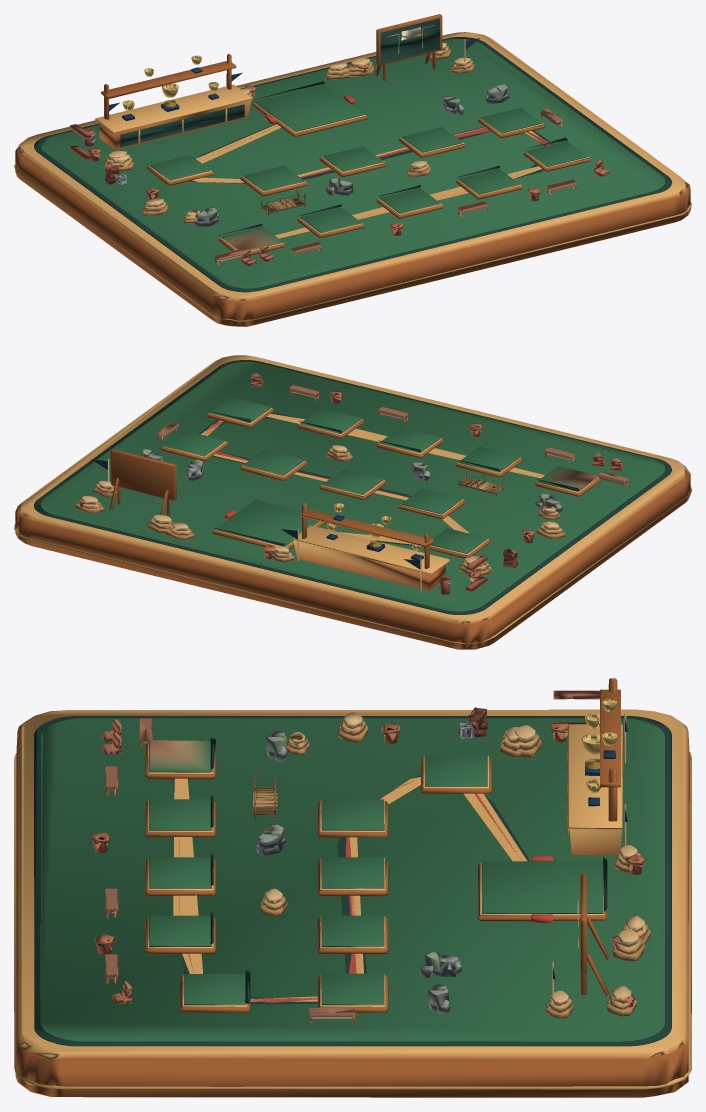
File: viridis.far.glb
The picture shows the model from 3 angles, top to bottom: view 1: azimuth 30°, elevation 25°; view 2: azimuth 150°, elevation 25°; view 3: azimuth 270°, elevation 25°; orthographic projection. The views are drawn at different scales.
Visible parts, largest first — view 1: Static tournament table • material batches; view 2: Static tournament table • material batches; view 3: Static tournament table • material batches.
Boxes of the visible parts, x1=… form: Static tournament table • material batches: x1=14, y1=14, x2=691, y2=326; Static tournament table • material batches: x1=14, y1=355, x2=691, y2=649; Static tournament table • material batches: x1=14, y1=678, x2=691, y2=1097.
Bounding box in the file's own units: 24.1 × 5.03 × 19.68.
